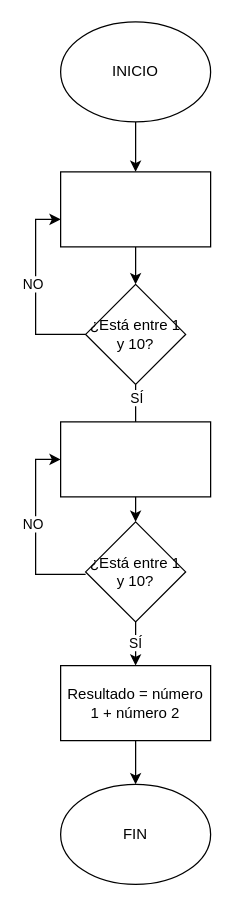
Some shapes in this 233 by 906 pixel diagram are drawn without their labels. Each missing label, with the centre of its shape:
"Pedir número 1" goes at [135,209].
"Pedir número 2" goes at [135,459].
